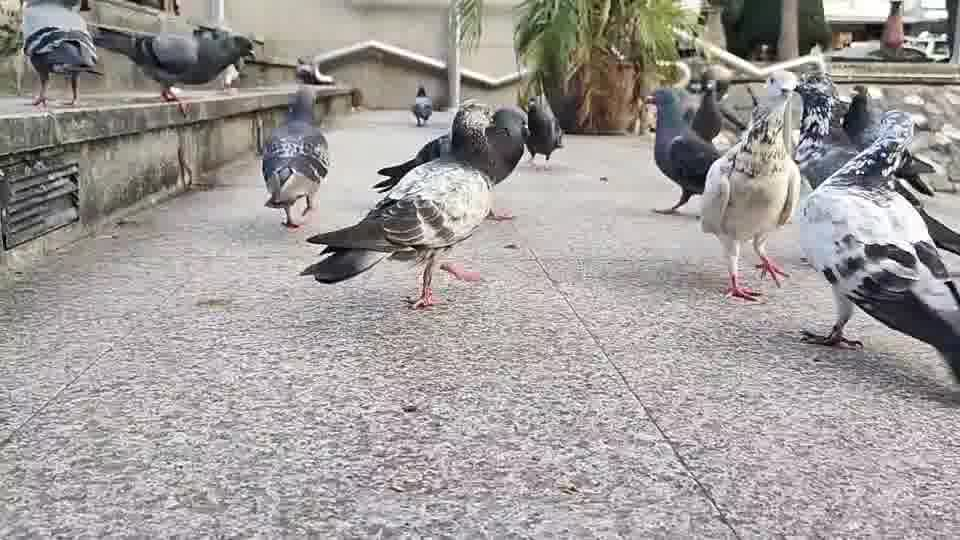Pigeon: (298, 100, 530, 309), (797, 118, 958, 386), (697, 88, 801, 303), (371, 99, 529, 221), (86, 20, 256, 116), (260, 56, 335, 231), (647, 79, 724, 214), (20, 0, 104, 108), (524, 92, 564, 170), (409, 84, 433, 126)
